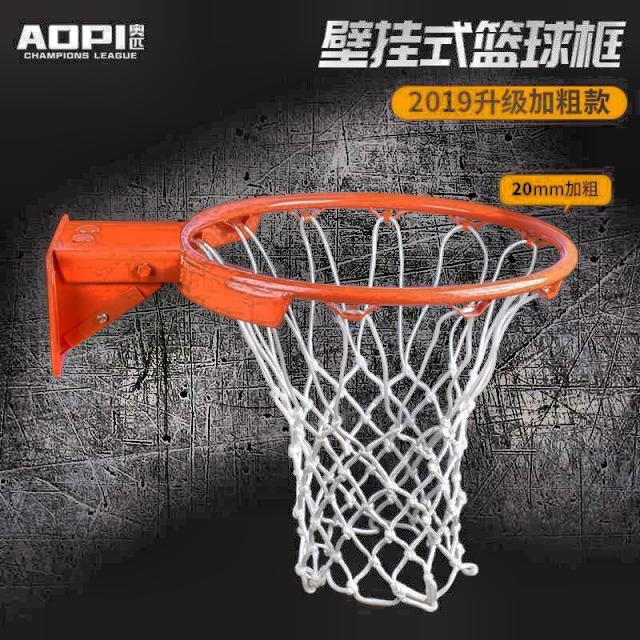rim: (182, 195, 580, 612)
